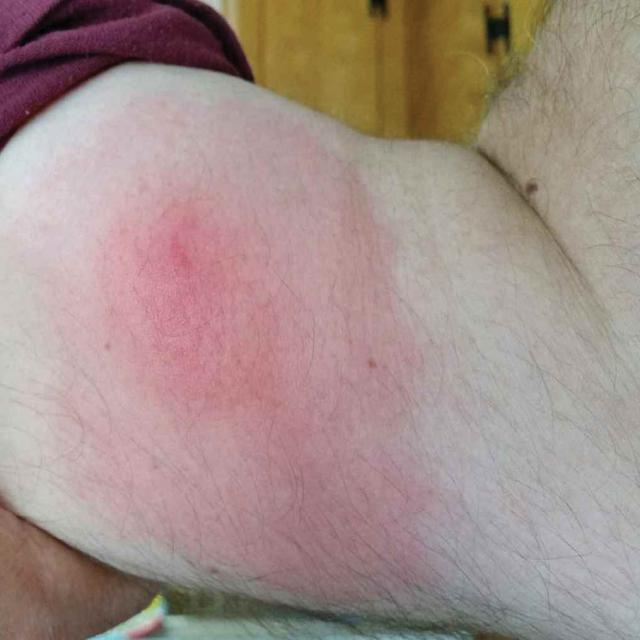stage-1: (55, 181, 429, 596)
